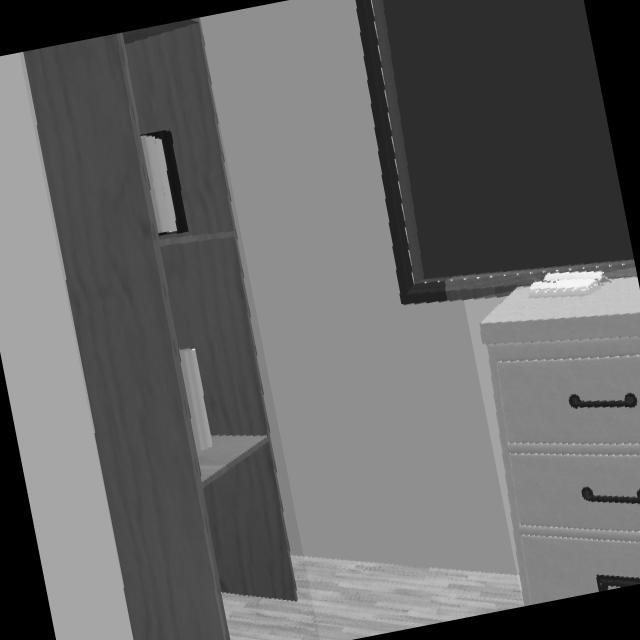cabinet: (480, 277, 640, 606)
shelf: (22, 18, 298, 640)
